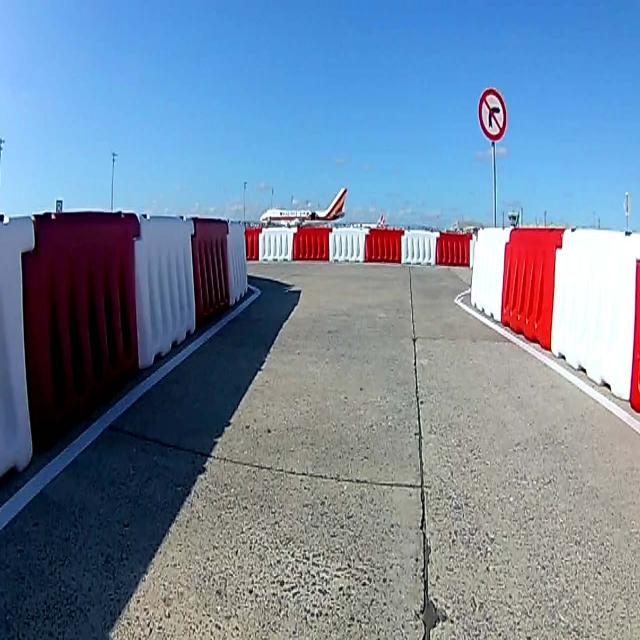sagadonulmez: (479, 89, 507, 141)
